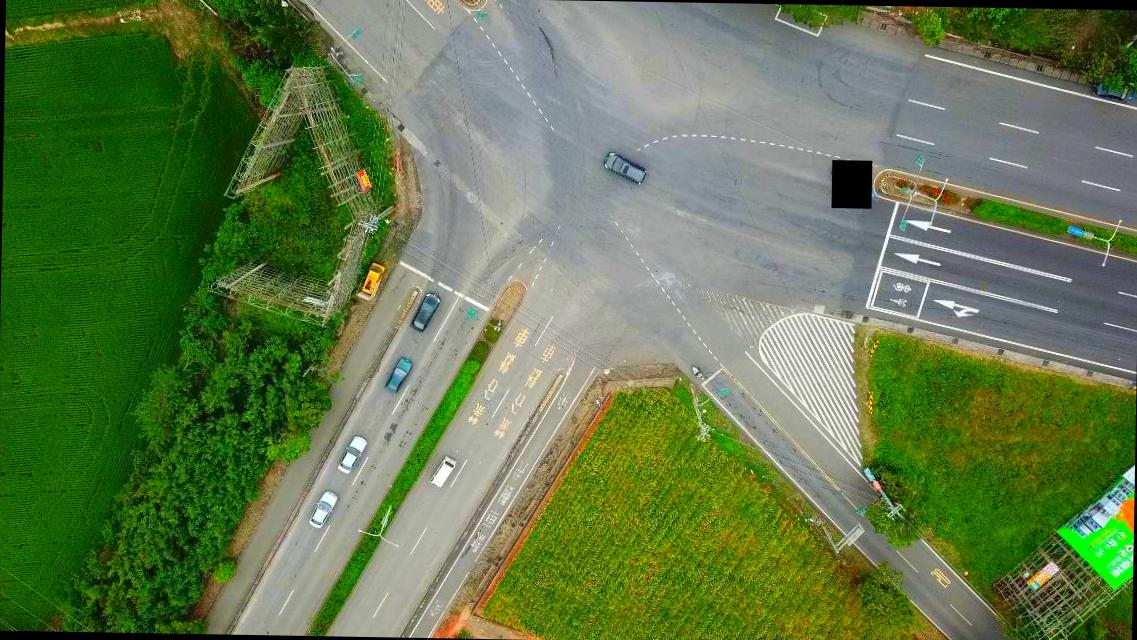vehicle: (603, 150, 646, 186), (337, 434, 367, 476), (410, 290, 440, 332), (1092, 77, 1136, 103), (309, 488, 336, 526), (384, 356, 410, 393), (428, 456, 456, 488), (359, 262, 382, 294)
